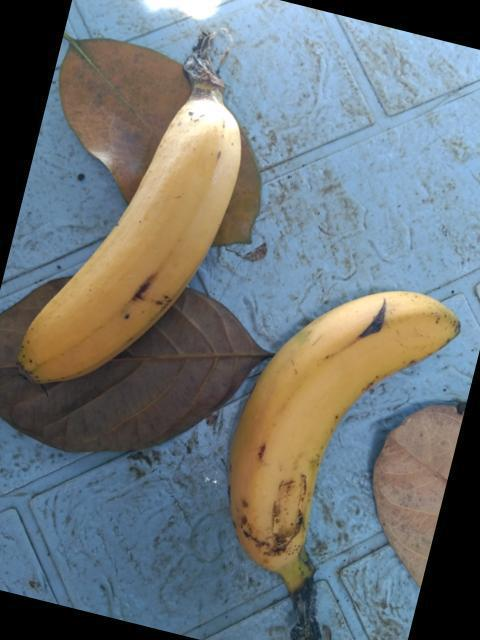freshripe: (0, 96, 238, 421)
ripe: (218, 283, 466, 599)
